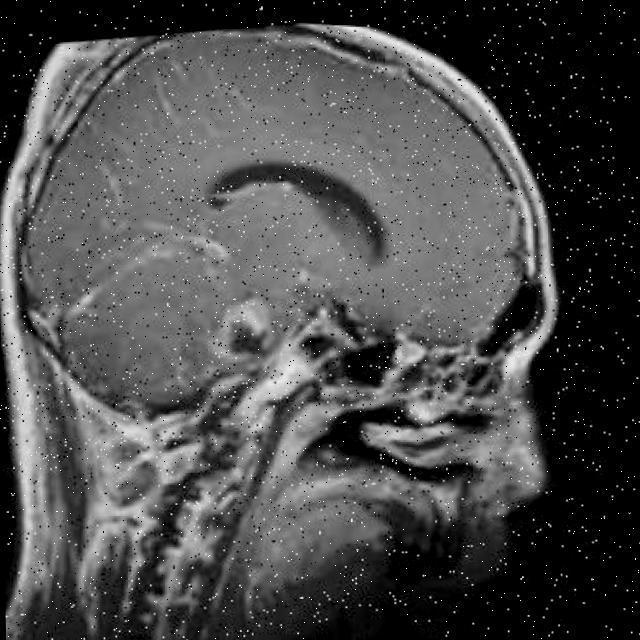EMCI: (159, 120, 365, 248), (116, 278, 280, 391)
